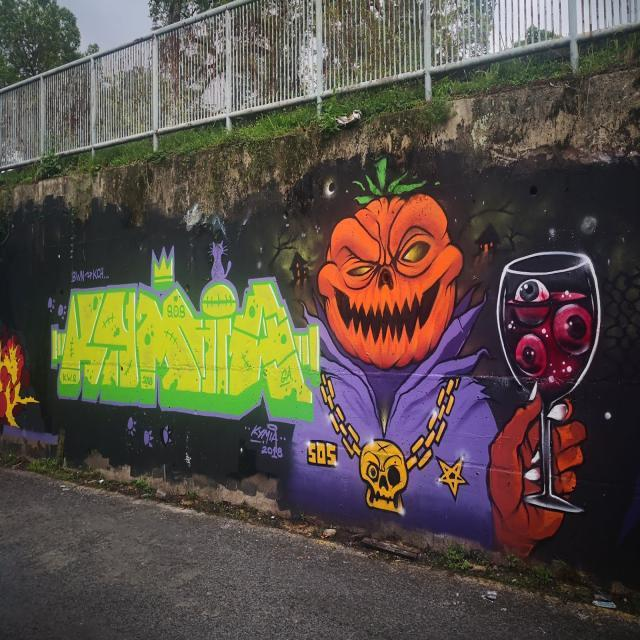-: (286, 156, 602, 561), (46, 238, 321, 428), (0, 335, 59, 452)
